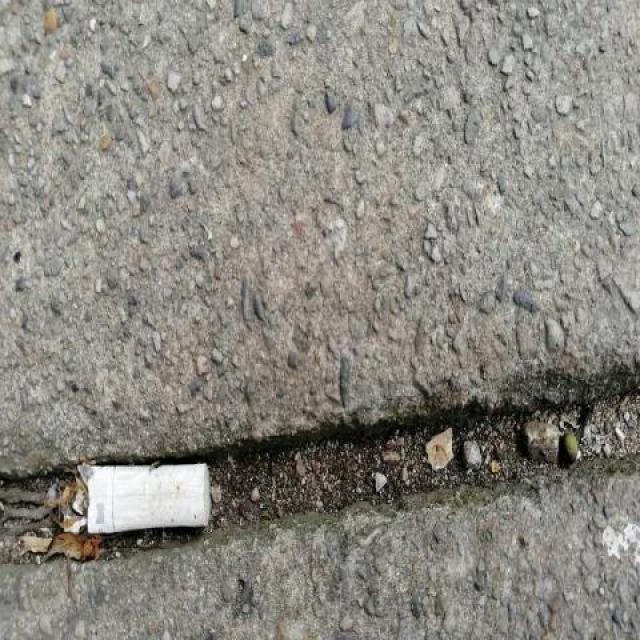non-organic waste: (73, 458, 214, 534)
